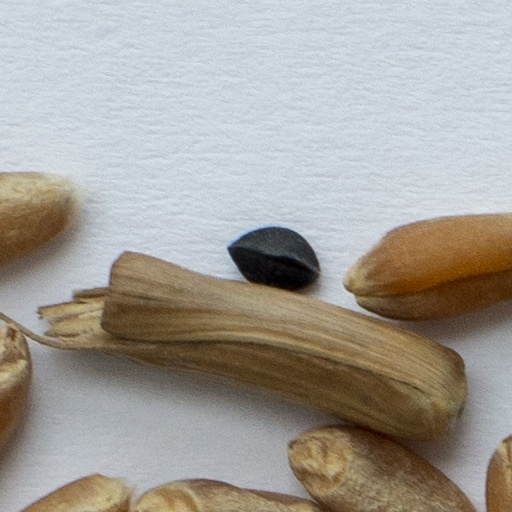Fallopia-Convolvulus-poly: (228, 227, 317, 290)
